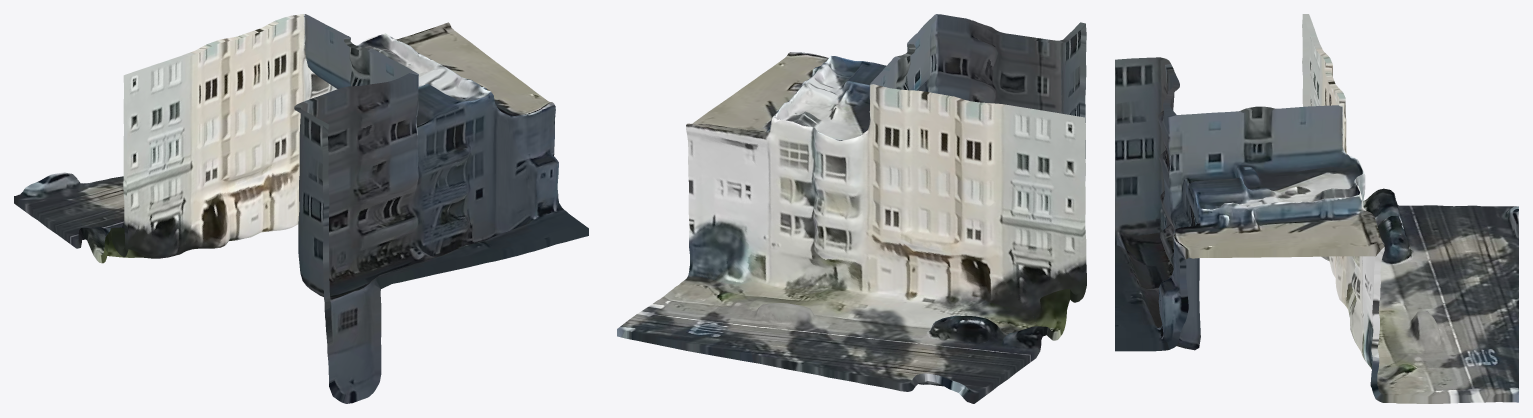
File: z20-167715-405197-h0-yup-uvflip-v3-world.glb
3 renders of one model, left to right at view 1: azimuth 30°, elevation 25°; view 2: azimuth 150°, elevation 25°; view 3: azimuth 270°, elevation 25°, orthographic. The views are drawn at different scales.
Size of the model in its own units: 30.16 by 22.56 by 30.32.
1 material, 1 textured.
